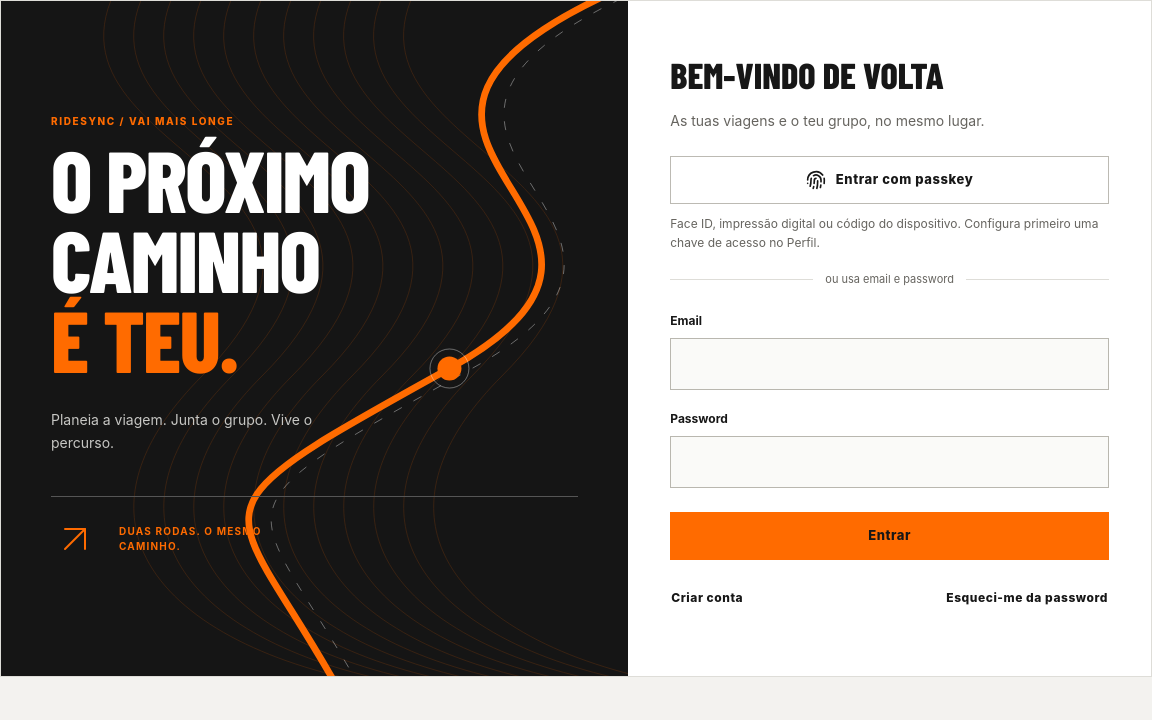
Test: authentication › shows a safe login error
Type "rider@example.test" into the field labelled "Email". click: [890, 364]
box: [670,338,1109,390]
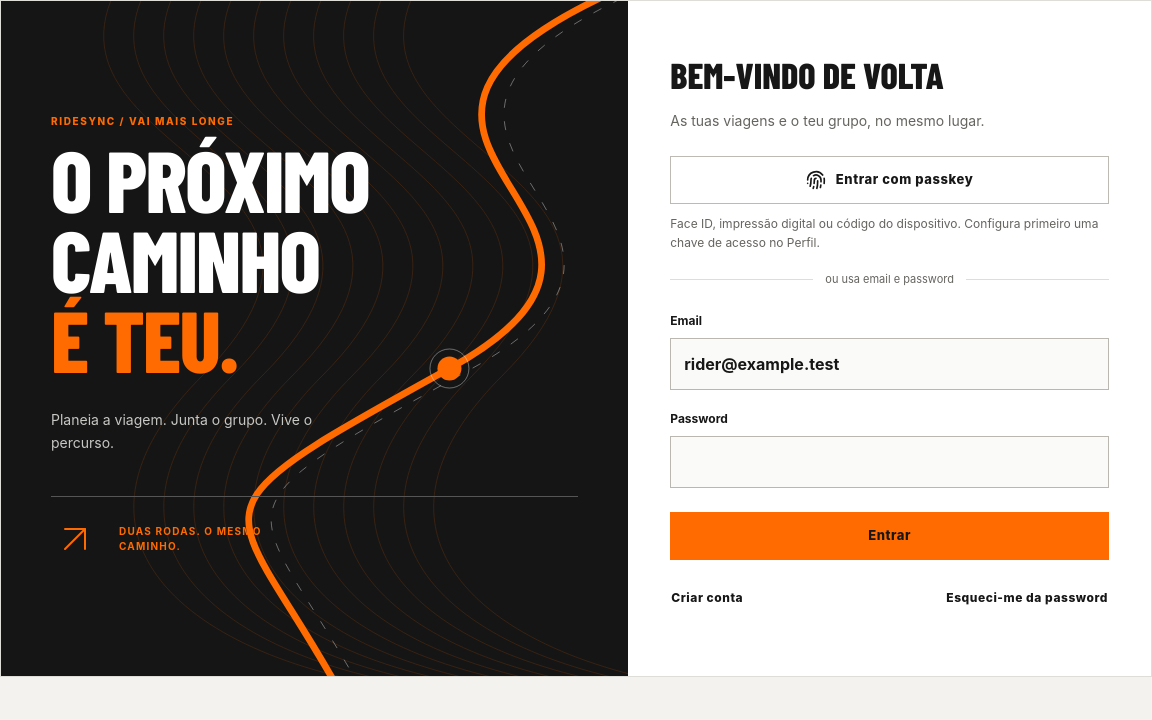
Type "password123" into the password field labelled "Password". click: [890, 462]
box: [670,436,1109,488]
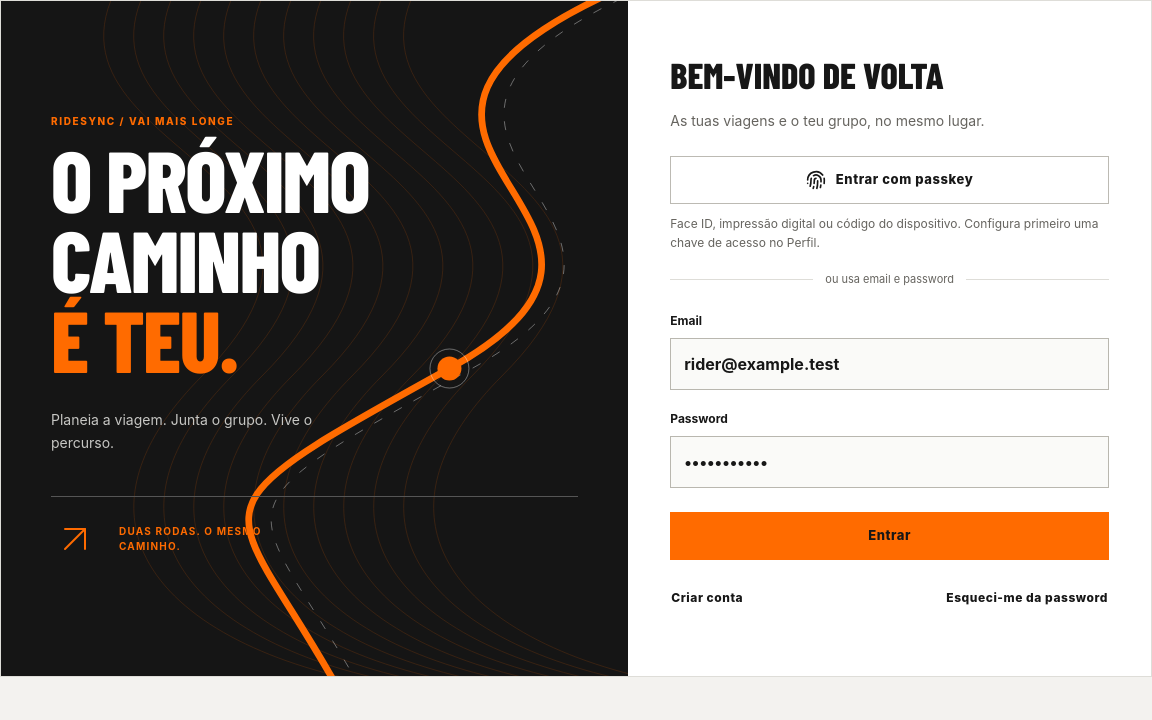
Click the button "Entrar". click: [890, 536]
box: [670,512,1109,560]
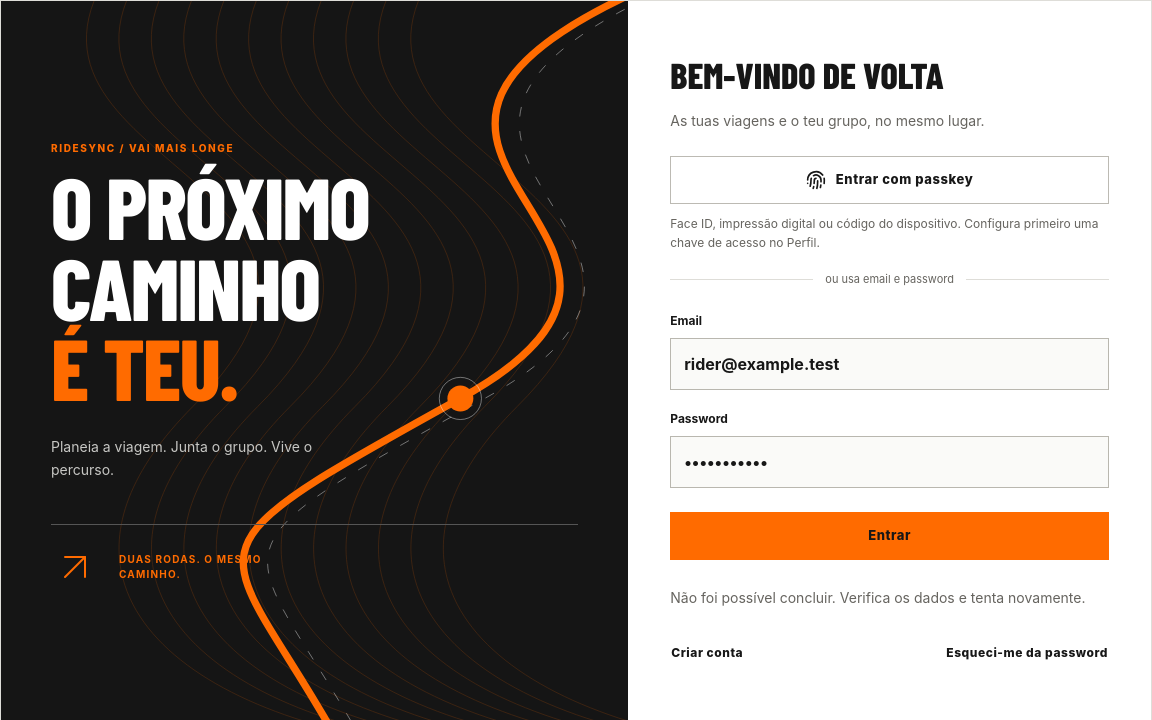
Expected: the message shows "Não foi possível concluir", [670,589,1086,606]
